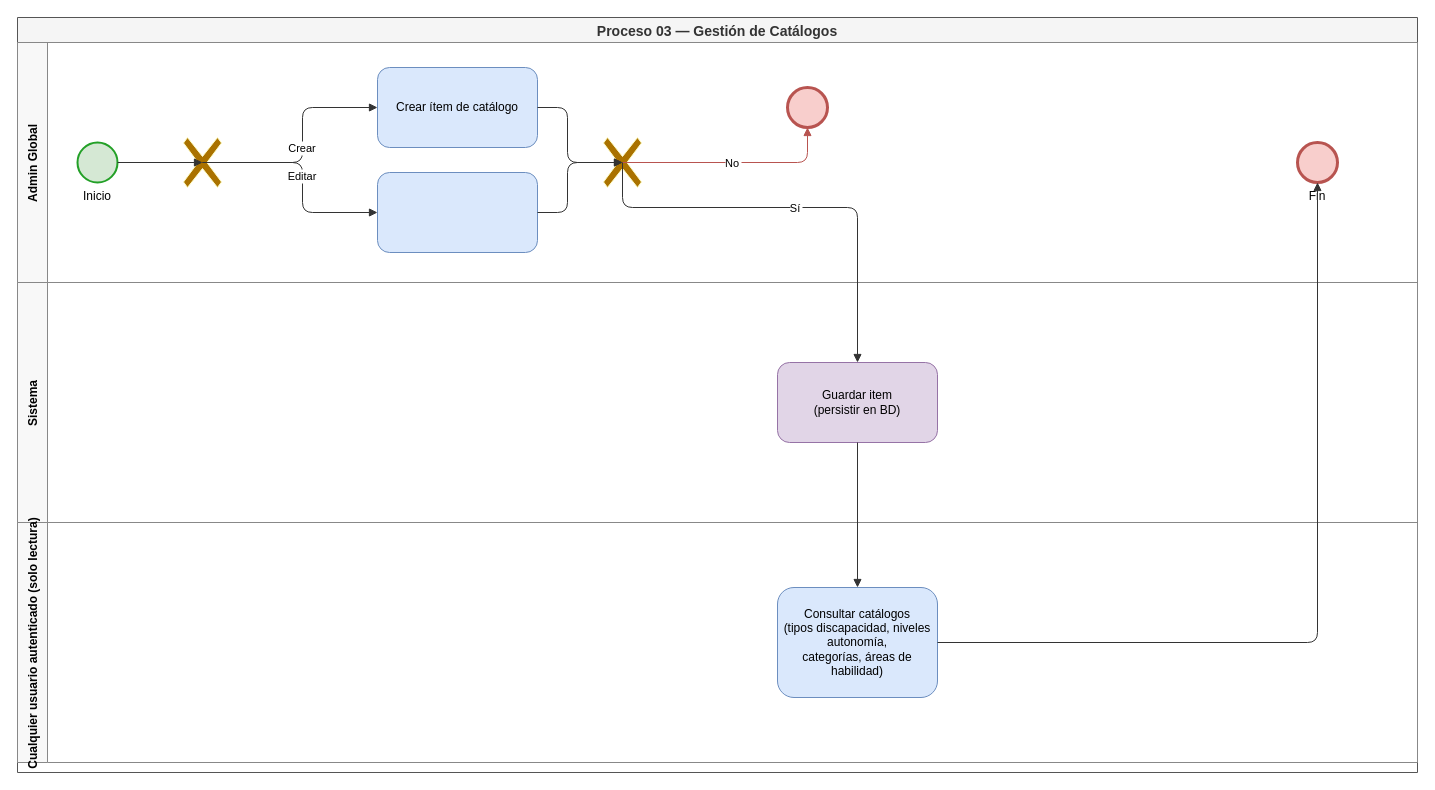
Some shapes in this 1435 by 790 pixel diagram are drawn without their labels. The box of each missing label's shape, as (x1, y1, x2, y2) in pixels:
409 Conflict: (786, 86, 828, 128)
Editar ítem: (376, 172, 538, 252)
¿Nombre único?: (596, 136, 648, 188)
¿Qué acción?: (176, 136, 228, 188)
